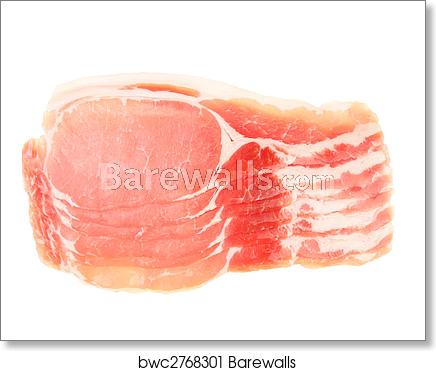bacon: (16, 77, 402, 289)
